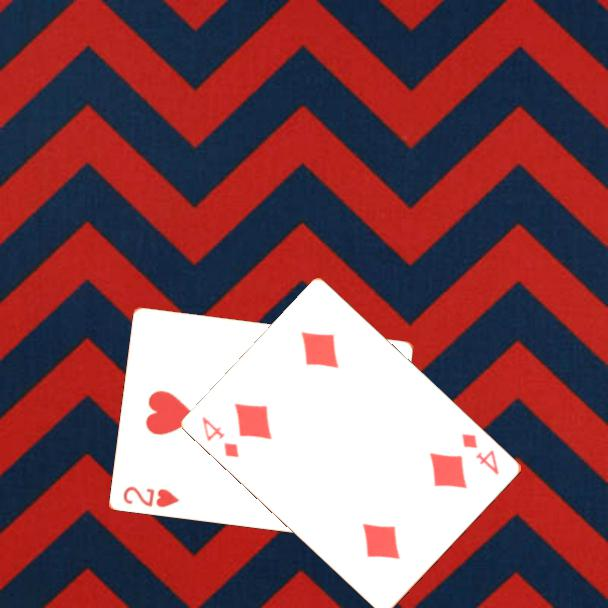d04: (199, 413, 243, 461), (459, 430, 502, 478)
h02: (120, 482, 183, 510)
